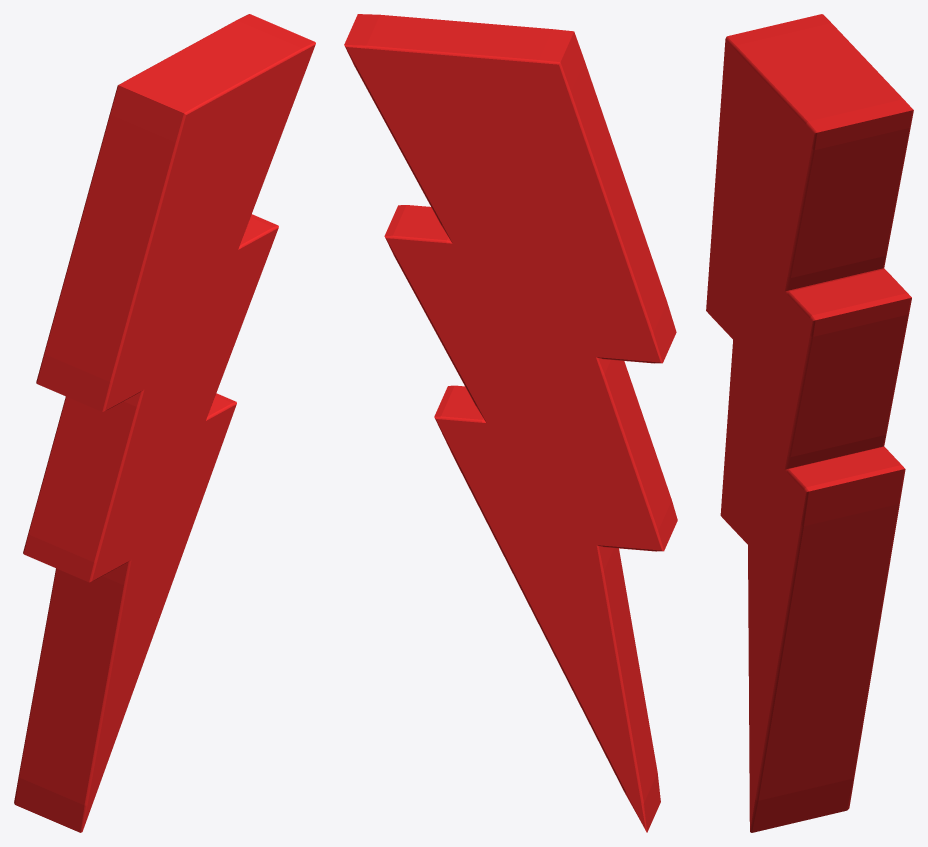
File: bolt.glb
3 renders of one model, left to right at view 1: azimuth 30°, elevation 25°; view 2: azimuth 150°, elevation 25°; view 3: azimuth 270°, elevation 25°, orthographic. The views are drawn at different scales.
Parts seen in each view (by area): view 1: bolt; view 2: bolt; view 3: bolt.
Part boxes in pixels (x1,y1,x2,y2): bolt: (14, 14, 315, 832); bolt: (344, 14, 677, 832); bolt: (706, 14, 913, 832).
Size of the model in its own units: 1.04 by 2.43 by 0.5319.
